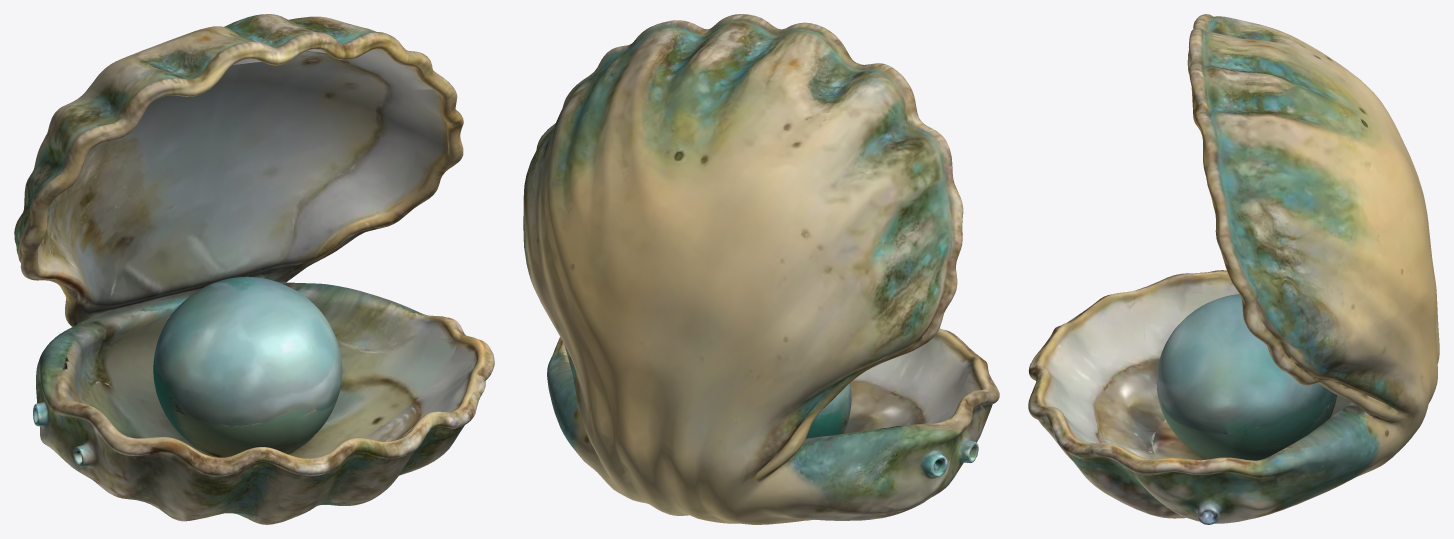
The picture shows the model from 3 angles, left to right: view 1: azimuth 30°, elevation 25°; view 2: azimuth 150°, elevation 25°; view 3: azimuth 270°, elevation 25°; orthographic projection. The views are drawn at different scales.
Parts seen in each view (by area): view 1: Mesh_0; view 2: Mesh_0; view 3: Mesh_0.
Part boxes in pixels (bbox=[...]): Mesh_0: bbox=[14, 14, 494, 524]; Mesh_0: bbox=[523, 14, 999, 524]; Mesh_0: bbox=[1028, 14, 1439, 524].
Size of the model in its own units: 1.96 by 2 by 1.72.
1 material, 1 textured.
